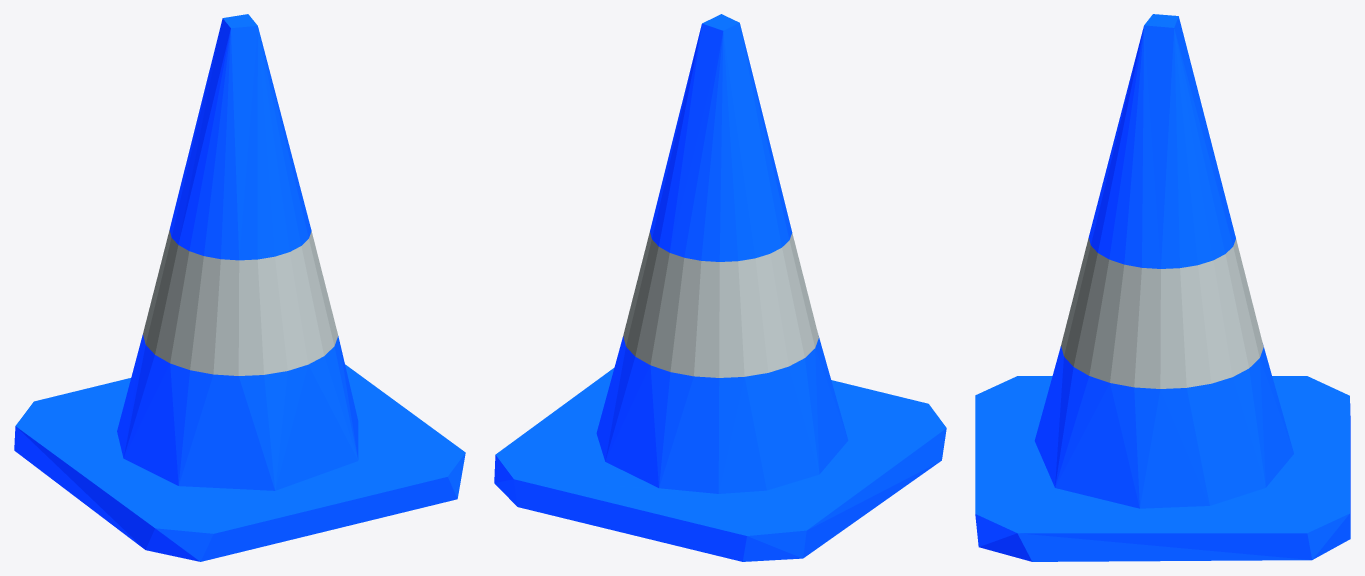
File: cone_blue.dae
3 views of the same model, side by side, from view 1: azimuth 30°, elevation 25°; view 2: azimuth 150°, elevation 25°; view 3: azimuth 270°, elevation 25° (orthographic). The views are drawn at different scales.
Visible parts, largest first — view 1: node; view 2: node; view 3: node.
Part boxes in pixels (x1,y1,x2,y2): node: (14, 14, 465, 561); node: (494, 14, 946, 561); node: (975, 14, 1350, 561).
Size of the model in its own units: 0.2254 by 0.224 by 0.3034.
